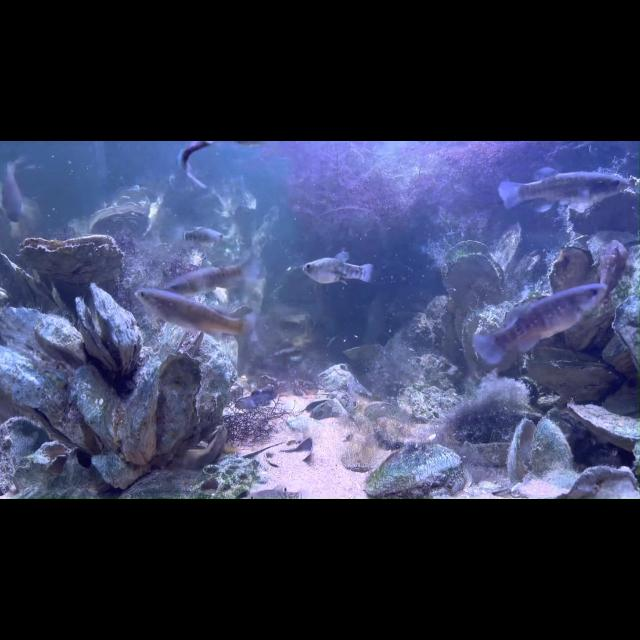Oyster-Closed: (563, 237, 640, 352), (72, 364, 122, 454), (526, 358, 618, 406), (195, 334, 238, 436), (120, 362, 160, 466), (565, 400, 640, 455), (157, 352, 201, 443), (0, 252, 60, 315), (0, 416, 48, 490), (154, 292, 206, 352), (548, 246, 596, 292), (493, 218, 525, 274)
Oyster-Open: (0, 346, 98, 455), (74, 282, 142, 380), (442, 240, 504, 322), (506, 418, 574, 490), (19, 234, 123, 272), (34, 312, 84, 366), (87, 202, 151, 238), (305, 398, 339, 422)
